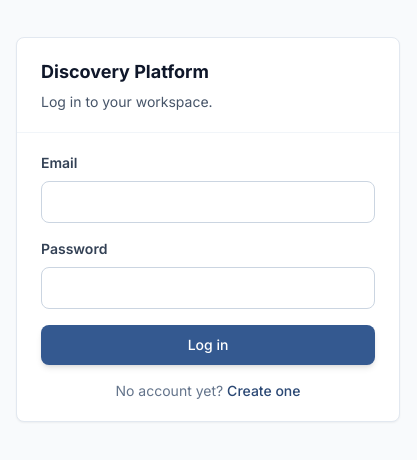
Test: LoginPage › shows the server's error message on invalid credentials, without crashing
In the field labelled "Email": (208, 202) x1=41 y1=180 x2=375 y2=222, type "a@example.com"
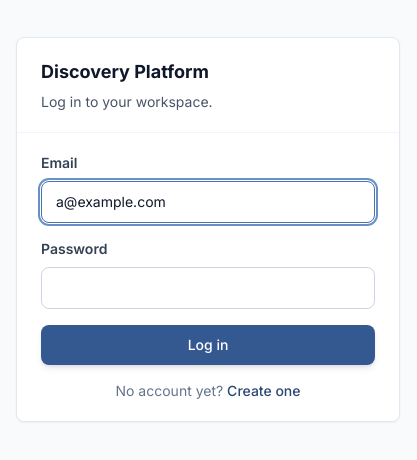
In the password field labelled "Password": (208, 288) x1=41 y1=266 x2=375 y2=308, type "wrong-password"
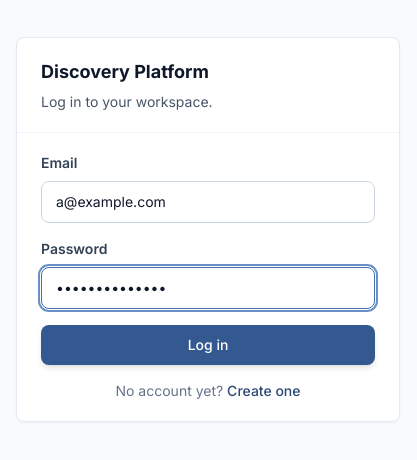
Click the button "Log in": (208, 344) x1=41 y1=324 x2=375 y2=364
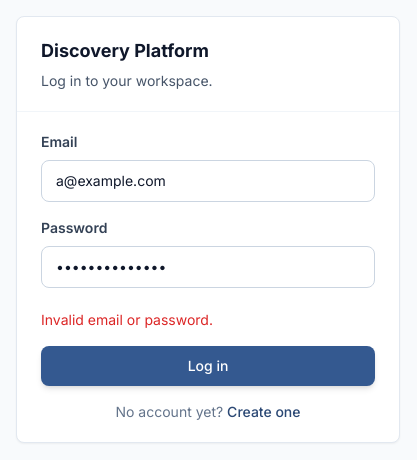
expect the text "Invalid email or password." is shown: met, box x1=41 y1=310 x2=213 y2=328
